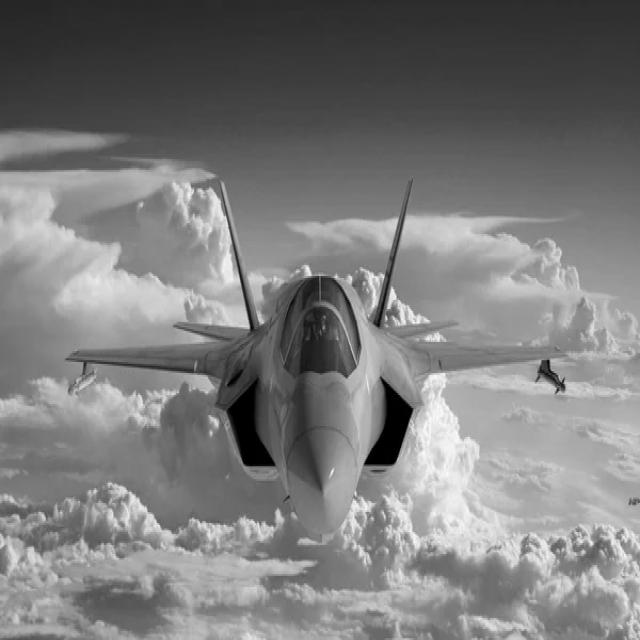Aircraft: (64, 176, 572, 545)
